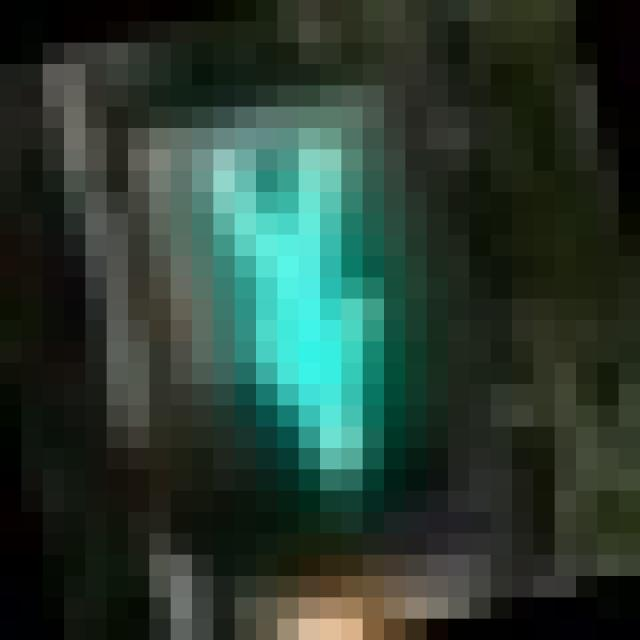geen-crossing: (107, 42, 470, 534)
